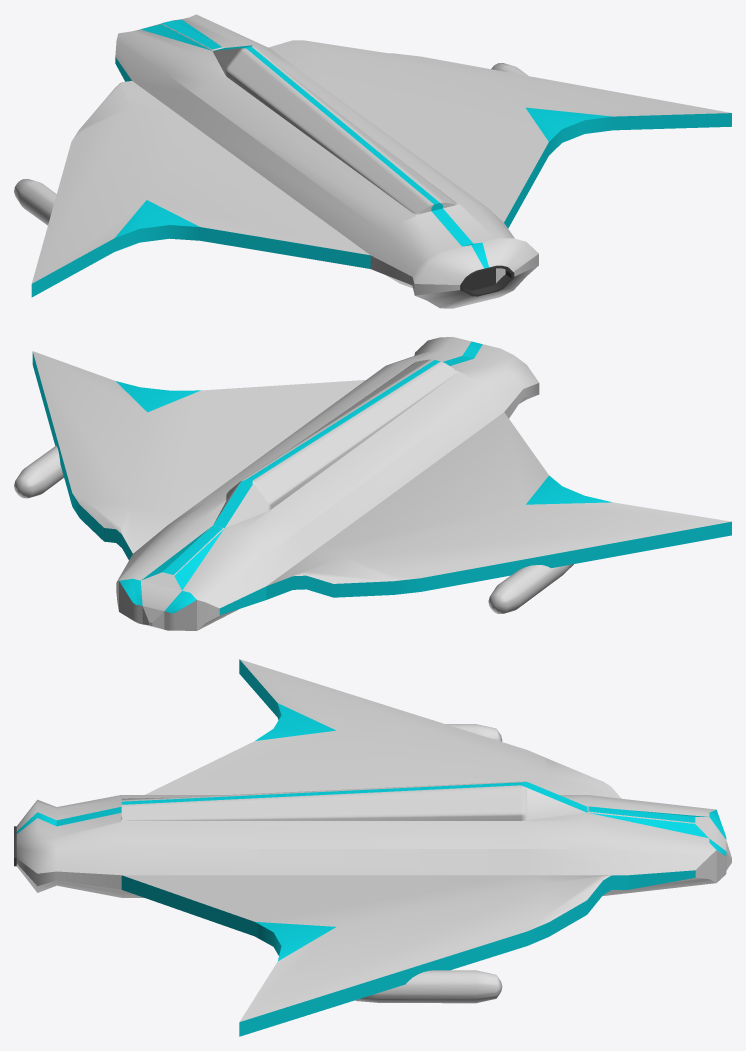
The model's file is Ship1.fbx.
3 views of the same model, one above another, from view 1: azimuth 30°, elevation 25°; view 2: azimuth 150°, elevation 25°; view 3: azimuth 270°, elevation 25° (orthographic). The views are drawn at different scales.
Parts seen in each view (by area): view 1: polySurface6; view 2: polySurface6; view 3: polySurface6.
Boxes of the visible parts, x1,y1,x2,y2 form: polySurface6: (14,14,731,308); polySurface6: (14,337,731,630); polySurface6: (14,659,731,1036).
Bounding box in the file's own units: 15.99 × 2.04 × 13.37.
